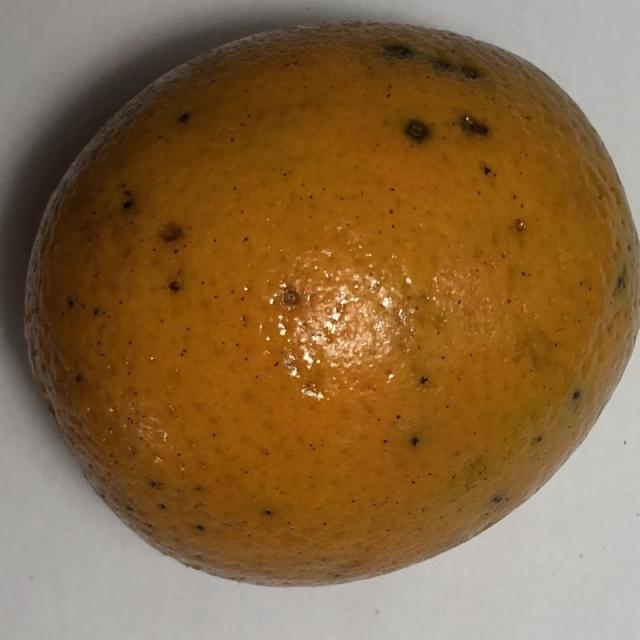blackspot: (16, 8, 640, 614)
